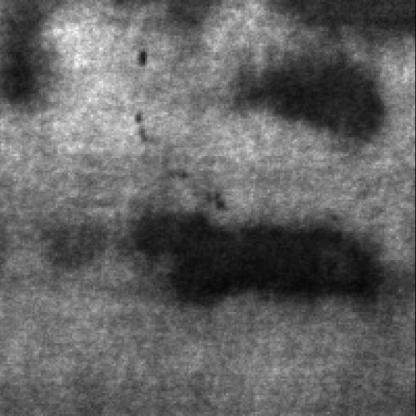patches: (125, 202, 374, 310), (227, 50, 387, 139), (260, 0, 414, 42), (0, 0, 56, 106)
